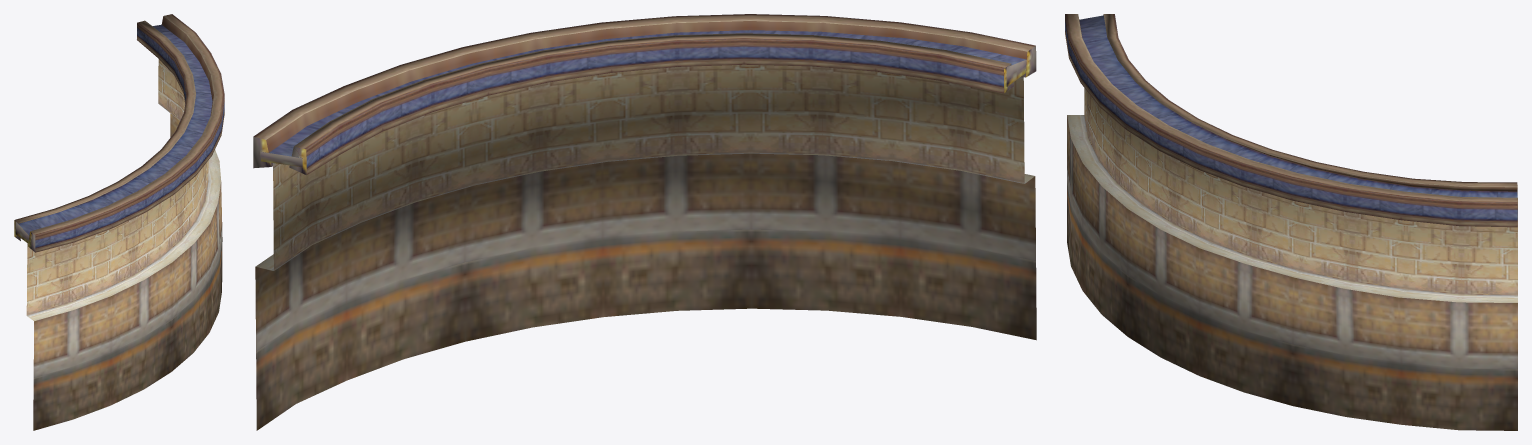
Rendered from S_Build_City090_A2.FBX.
The picture shows the model from 3 angles, left to right: view 1: azimuth 30°, elevation 25°; view 2: azimuth 150°, elevation 25°; view 3: azimuth 270°, elevation 25°; orthographic projection. The views are drawn at different scales.
Visible parts, largest first — view 1: S_Build_City090_A2; view 2: S_Build_City090_A2; view 3: S_Build_City090_A2.
Boxes of the visible parts, <box> form: S_Build_City090_A2: <box>14,14,224,430</box>; S_Build_City090_A2: <box>253,14,1036,430</box>; S_Build_City090_A2: <box>1065,14,1517,430</box>.
Size of the model in its own units: 1601 by 905 by 1617.
